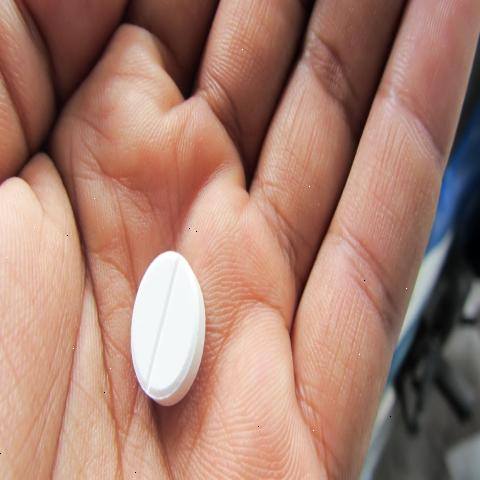Pill: (122, 225, 232, 434)
